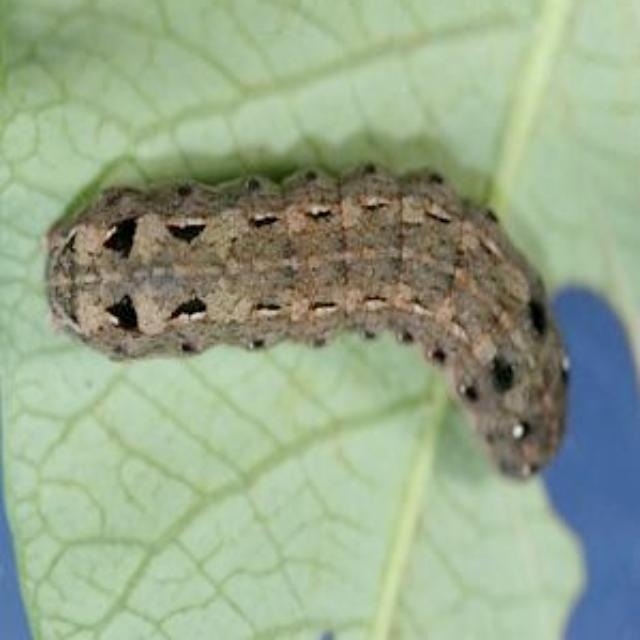Tobacco cutworm: (16, 81, 598, 546)
